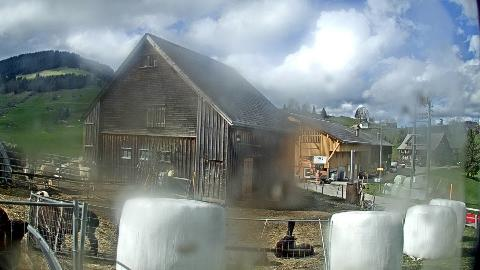car: (388, 166, 398, 172), (418, 161, 424, 167)
sheep: (34, 191, 102, 257), (32, 190, 64, 254), (0, 201, 28, 253), (275, 219, 297, 258), (282, 236, 314, 256), (78, 160, 96, 190), (40, 157, 57, 187), (24, 163, 34, 189)
